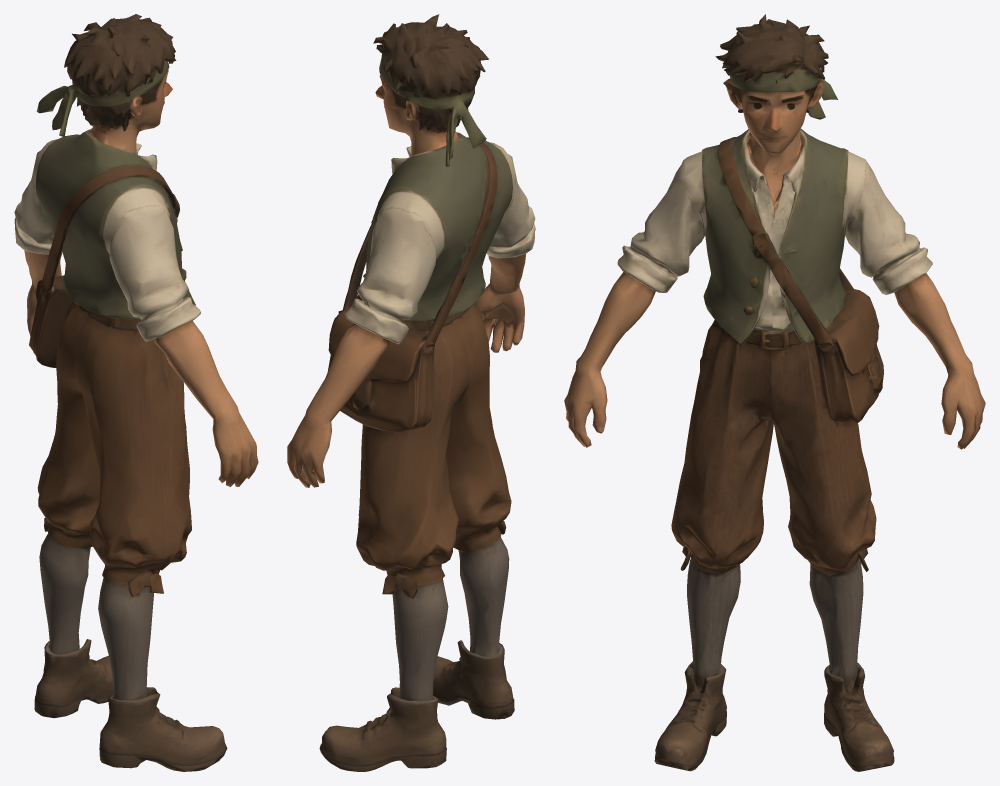
The model's file is ottavio-tripo-grezzo.glb.
The picture shows the model from 3 angles, left to right: view 1: azimuth 30°, elevation 25°; view 2: azimuth 150°, elevation 25°; view 3: azimuth 270°, elevation 25°; orthographic projection. The views are drawn at different scales.
Visible parts, largest first — view 1: tripo_node_350ecf50-d653-4d78-8a29-1e4e5d23d4de; view 2: tripo_node_350ecf50-d653-4d78-8a29-1e4e5d23d4de; view 3: tripo_node_350ecf50-d653-4d78-8a29-1e4e5d23d4de.
Boxes of the visible parts, bbox=[...] form: tripo_node_350ecf50-d653-4d78-8a29-1e4e5d23d4de: bbox=[14, 14, 258, 771]; tripo_node_350ecf50-d653-4d78-8a29-1e4e5d23d4de: bbox=[287, 14, 535, 771]; tripo_node_350ecf50-d653-4d78-8a29-1e4e5d23d4de: bbox=[564, 14, 985, 771].
Size of the model in its own units: 0.1827 by 1 by 0.5248.
Materials: 1 (1 with a texture image).
